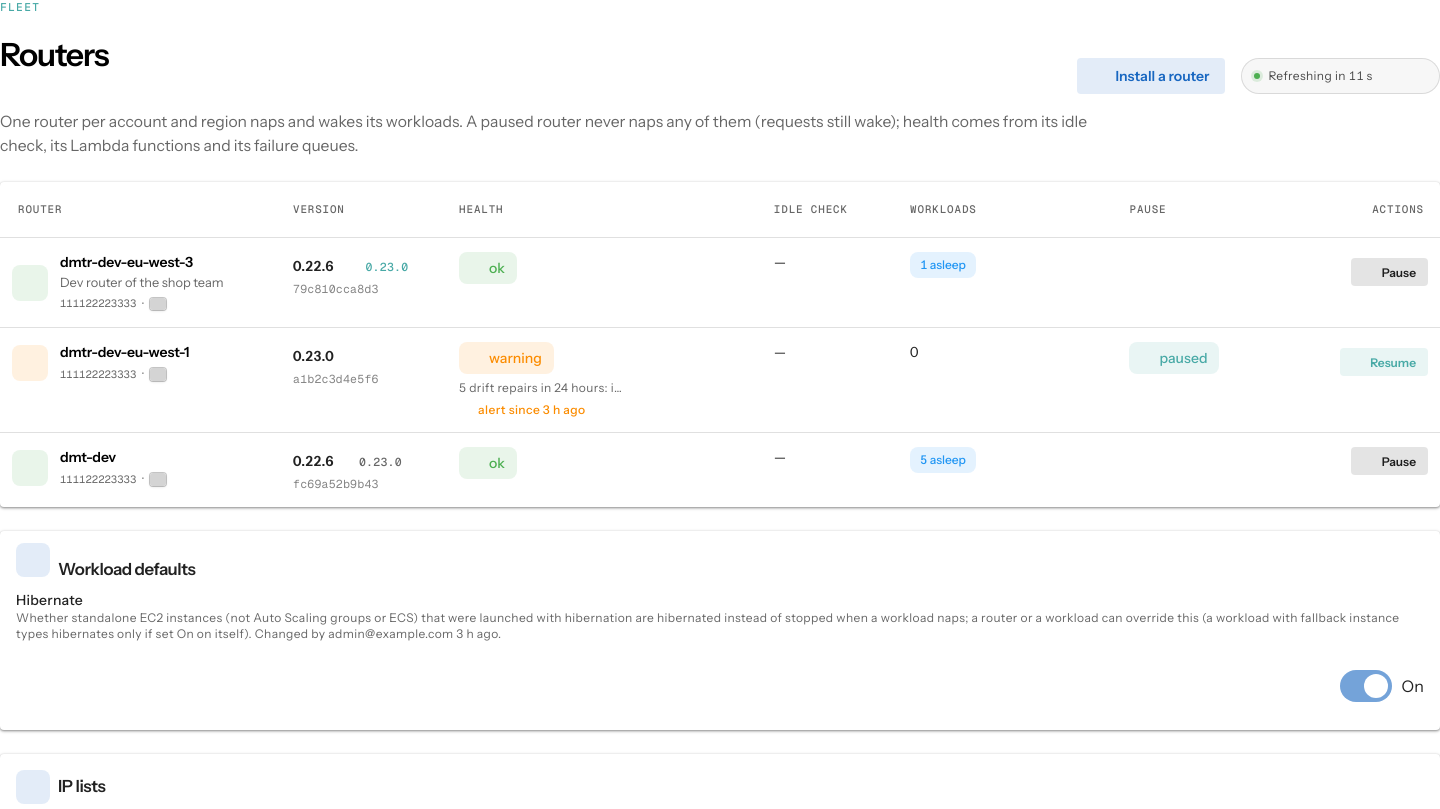
Routers view › the workload defaults card (hibernation) › puts the switch back on the stored value when the save fails
This screenshot has width=1440, height=809.
Click the checkbox labelled "On" at [1413, 686], box x1=1402 y1=676 x2=1424 y2=696
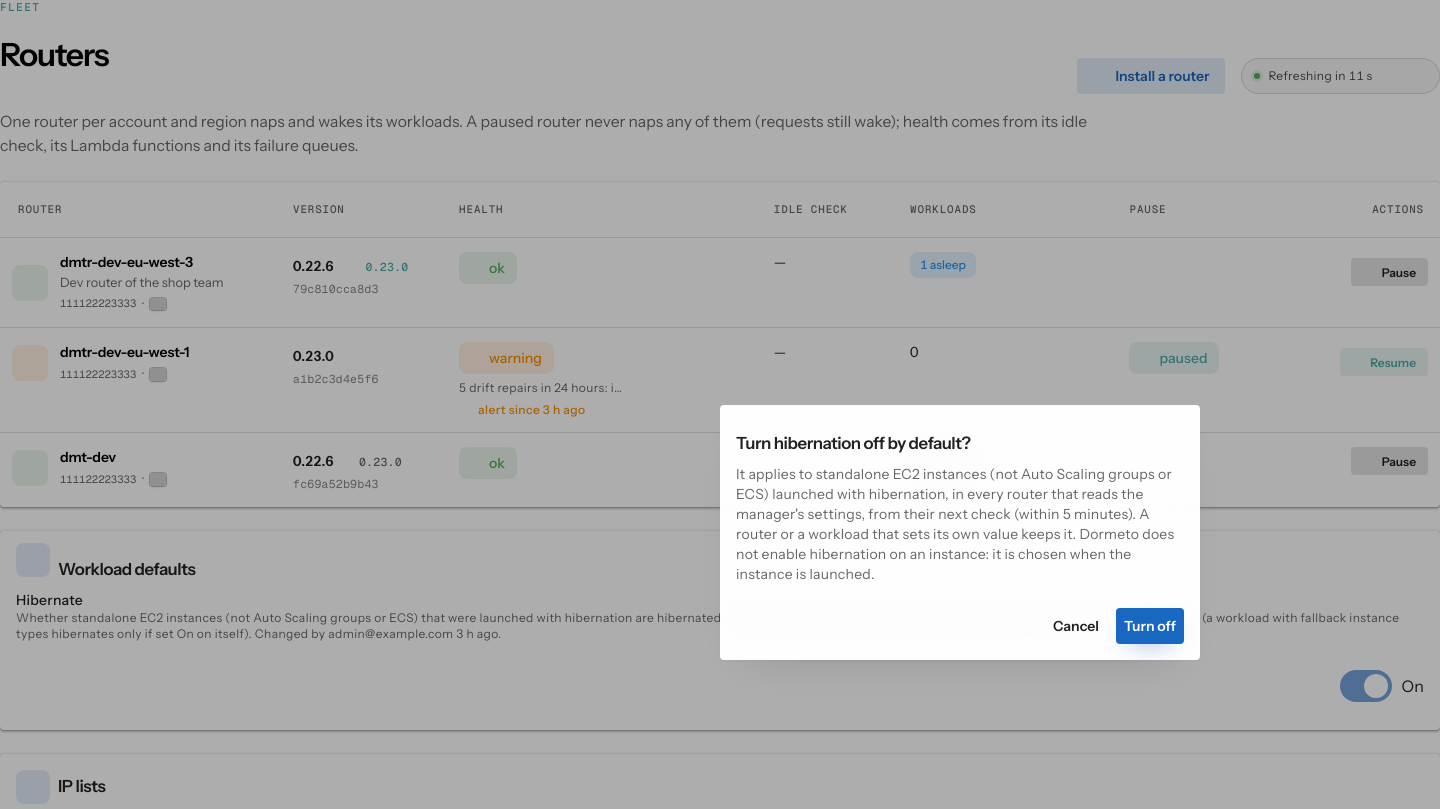
Click the button "Turn off" at [1150, 626], box x1=1116 y1=608 x2=1184 y2=644
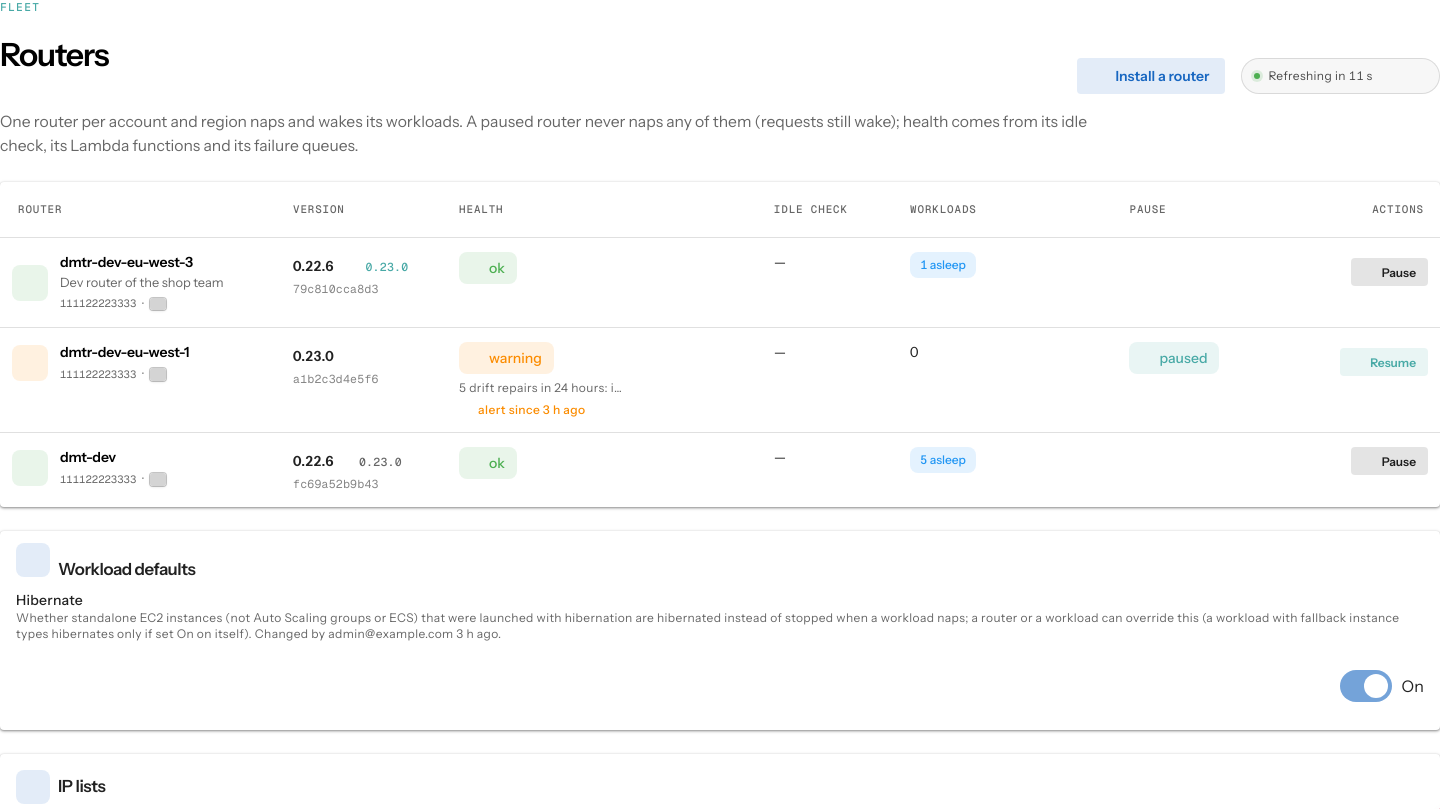
Expected: the checkbox labelled "On" is checked, x1=1402 y1=676 x2=1424 y2=696
